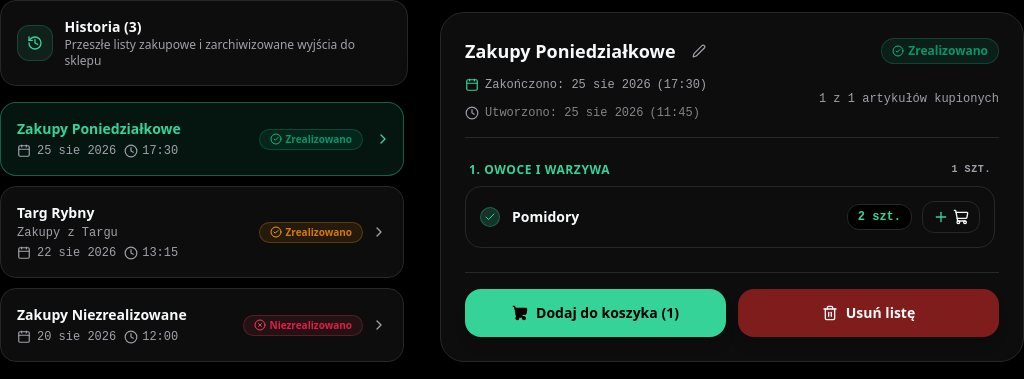
Scenario: DesktopHistoryView - Desktop History and Dynamic Status Flows › Flow 05: displays original name below title if renamed, and hides it if name was not changed
Check: the text "Zakupy z Targu" is shown, box [17,226,118,240]
Right details panel also shows the original name when list-2 is selected
Click the heading "Targ Rybny".
click(56, 212)  # box [17,203,94,222]
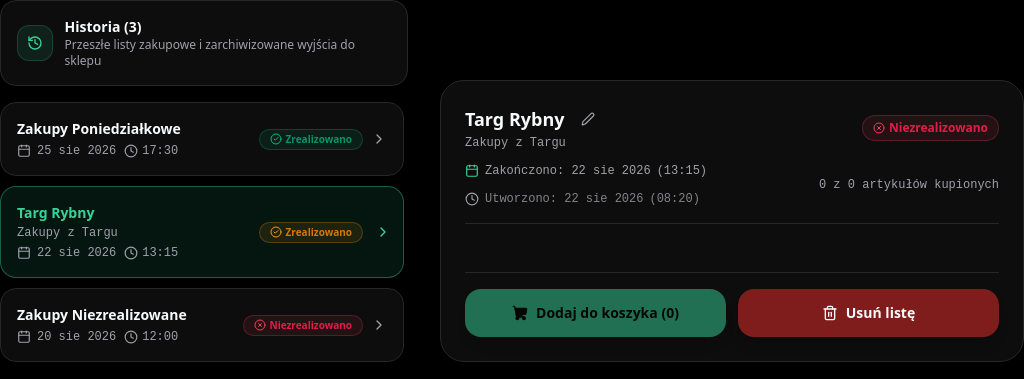
Check: the text "Zakupy z Targu" is shown 2 times, box [17,226,118,240]; [465,136,566,150]
